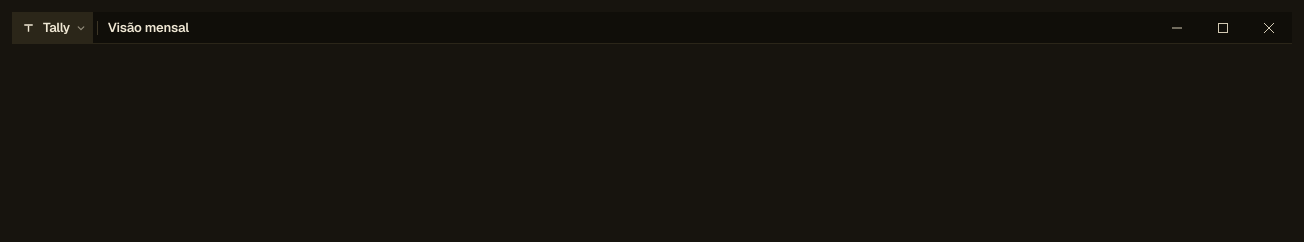
Test: TitleBar — alternador de tema › rotula para o claro quando já está no escuro
Step 1. Click the button with aria-label "Menu do aplicativo" → (52, 28), box x1=12 y1=12 x2=93 y2=44
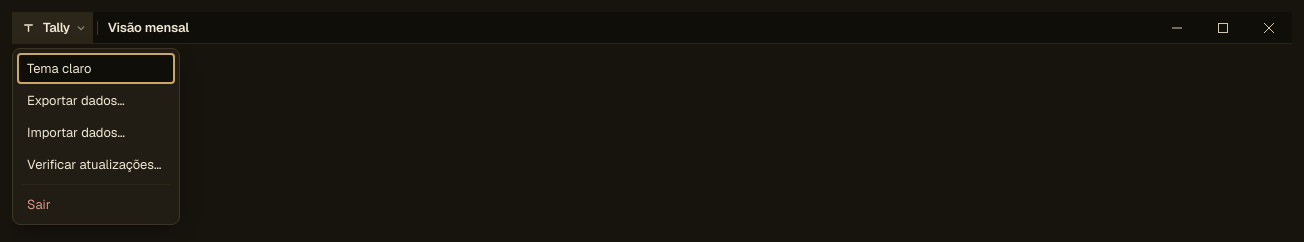
Expected: the menu item "Tema claro" is shown, x1=17 y1=52 x2=175 y2=84
